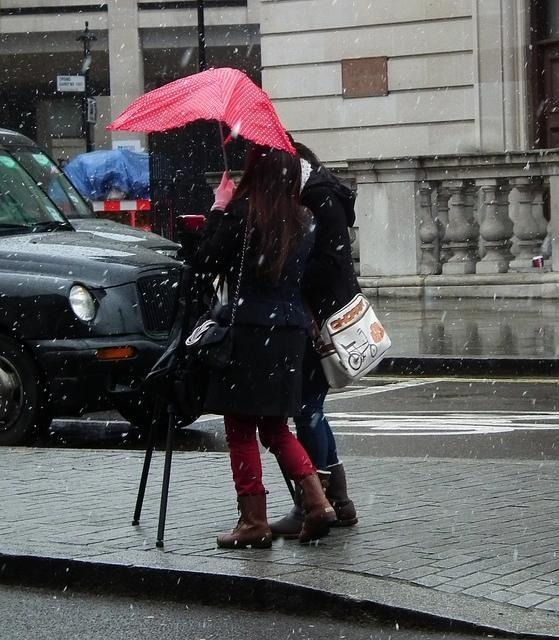car: (1, 130, 214, 454)
